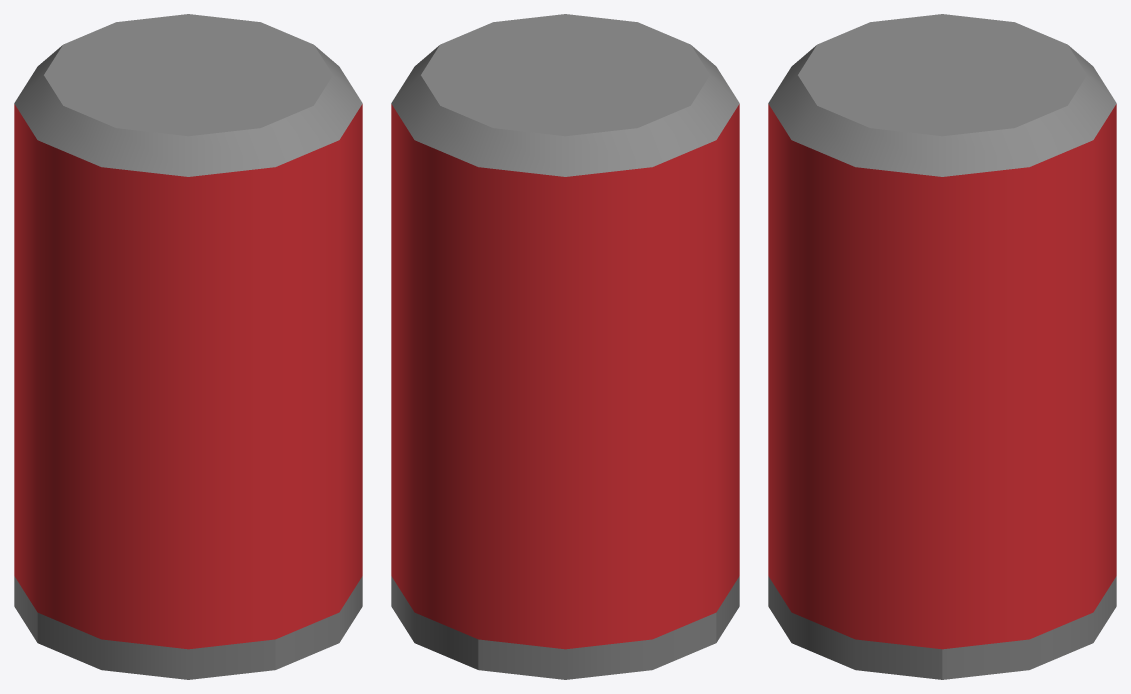
Rendered from Can_1.fbx.
The picture shows the model from 3 angles, left to right: view 1: azimuth 30°, elevation 25°; view 2: azimuth 150°, elevation 25°; view 3: azimuth 270°, elevation 25°; orthographic projection.
Parts seen in each view (by area): view 1: Can1Color, Can1Metal; view 2: Can1Color, Can1Metal; view 3: Can1Color, Can1Metal.
Part boxes in pixels (x1,y1,x2,y2): Can1Color: (14,104,362,649); Can1Metal: (14,14,362,679); Can1Color: (391,104,739,649); Can1Metal: (391,14,739,679); Can1Color: (768,104,1116,649); Can1Metal: (768,14,1116,679).
Size of the model in its own units: 200 by 336 by 200.
